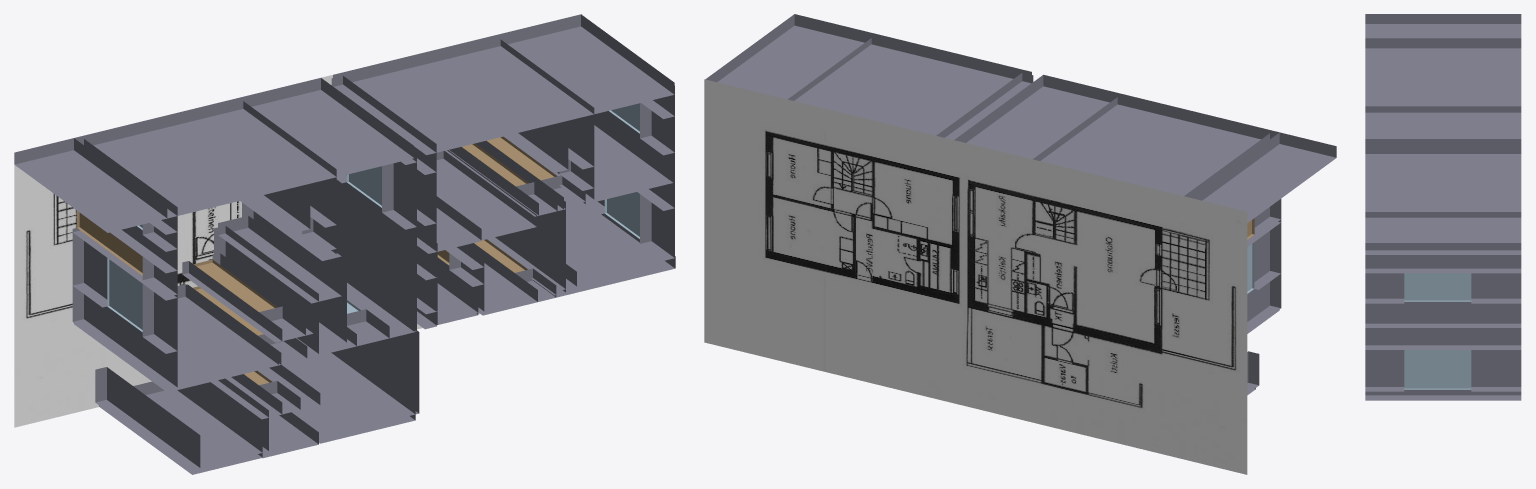
3 views of the same model, side by side, from view 1: azimuth 30°, elevation 25°; view 2: azimuth 150°, elevation 25°; view 3: azimuth 270°, elevation 25° (orthographic). The views are drawn at different scales.
Visible parts, largest first — view 1: 19_png.rf.5435466b5cc5a5cf9cbc1da0f911767b, InteriorFloor; view 2: InteriorFloor, 19_png.rf.5435466b5cc5a5cf9cbc1da0f911767b; view 3: 19_png.rf.5435466b5cc5a5cf9cbc1da0f911767b.
Boxes of the visible parts, x1,y1,x2,y2 form: 19_png.rf.5435466b5cc5a5cf9cbc1da0f911767b: [14, 14, 675, 474]; InteriorFloor: [14, 14, 582, 427]; InteriorFloor: [704, 79, 1247, 474]; 19_png.rf.5435466b5cc5a5cf9cbc1da0f911767b: [705, 14, 1336, 395]; 19_png.rf.5435466b5cc5a5cf9cbc1da0f911767b: [1365, 14, 1521, 400].
Size of the model in its own units: 9.82 by 4.55 by 2.8.
Materials: 2 (1 with a texture image).
